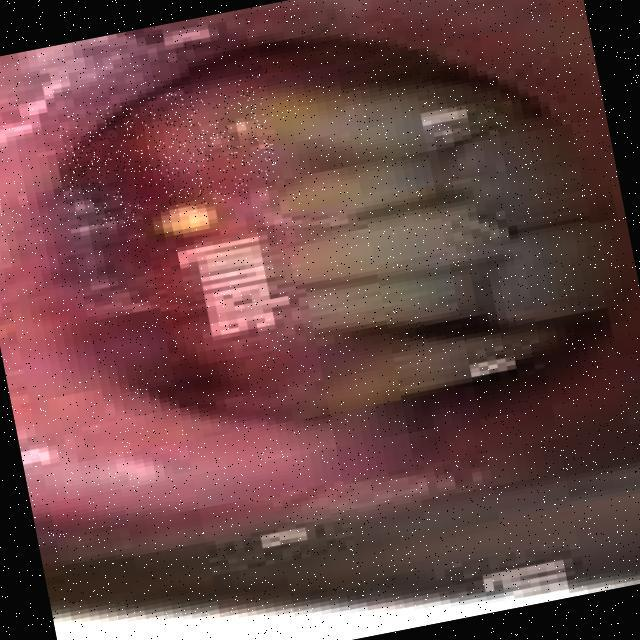abscess: (53, 76, 281, 232)
